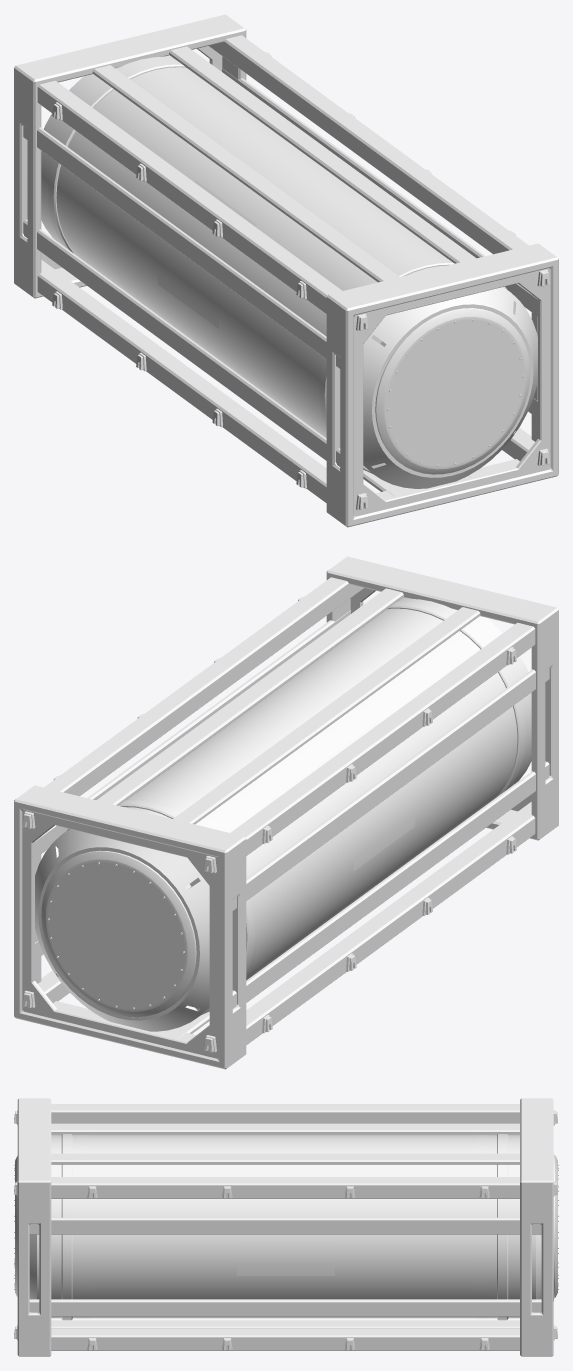
File: KB3D_FTW_PropIsoTank_B_grp.glb
3 views of the same model, one above another, from view 1: azimuth 30°, elevation 25°; view 2: azimuth 150°, elevation 25°; view 3: azimuth 270°, elevation 25° (orthographic). The views are drawn at different scales.
Visible parts, largest first — view 1: KB3D_FTW_PropIsoTank_B_Main; view 2: KB3D_FTW_PropIsoTank_B_Main; view 3: KB3D_FTW_PropIsoTank_B_Main.
Boxes of the visible parts, left/top/right/bottom form: KB3D_FTW_PropIsoTank_B_Main: left=14, top=14, right=558, bottom=527; KB3D_FTW_PropIsoTank_B_Main: left=14, top=556, right=558, bottom=1069; KB3D_FTW_PropIsoTank_B_Main: left=14, top=1098, right=558, bottom=1356.
Bounding box in the file's own units: 1.7 × 1.64 × 4.62.
5 materials, 2 textured.
